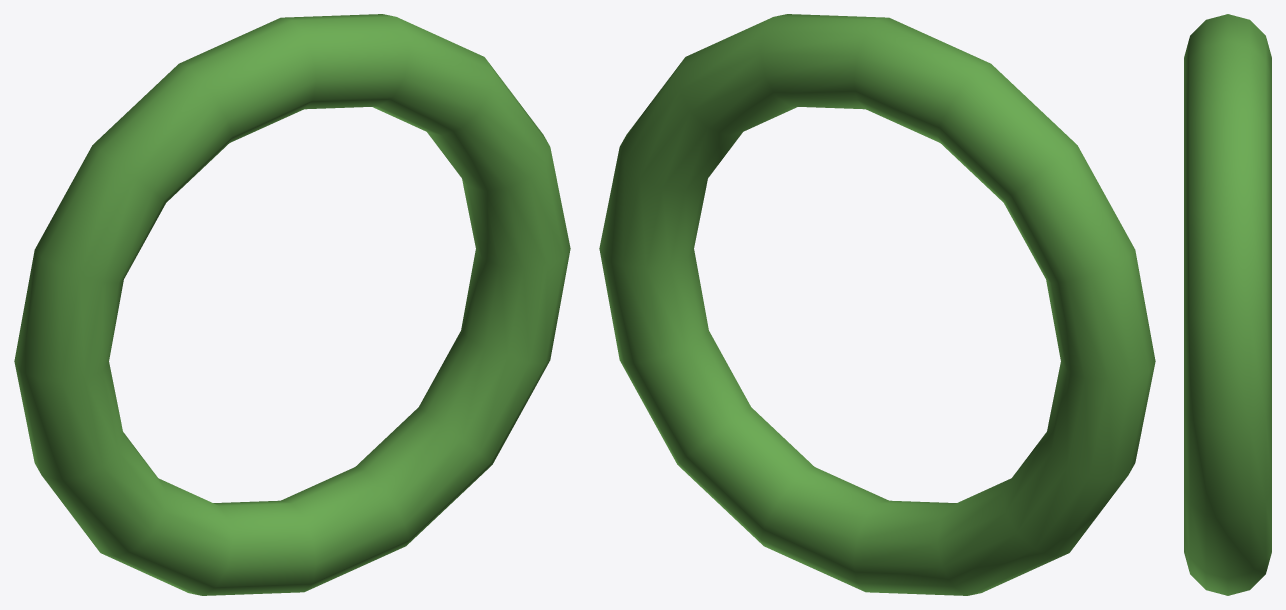
The model's file is Correct Mark_2.fbx.
3 renders of one model, left to right at view 1: azimuth 30°, elevation 25°; view 2: azimuth 150°, elevation 25°; view 3: azimuth 270°, elevation 25°, orthographic. The views are drawn at different scales.
Parts seen in each view (by area): view 1: Correct Mark_2; view 2: Correct Mark_2; view 3: Correct Mark_2.
Part boxes in pixels (x1,y1,x2,y2): Correct Mark_2: (14, 14, 570, 595); Correct Mark_2: (599, 14, 1155, 595); Correct Mark_2: (1184, 14, 1271, 595).
Bounding box in the file's own units: 0.2385 × 0.2385 × 0.036.
